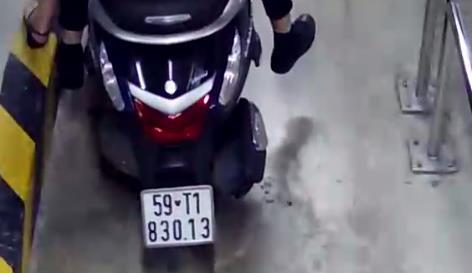lisence: (138, 185, 214, 246)
